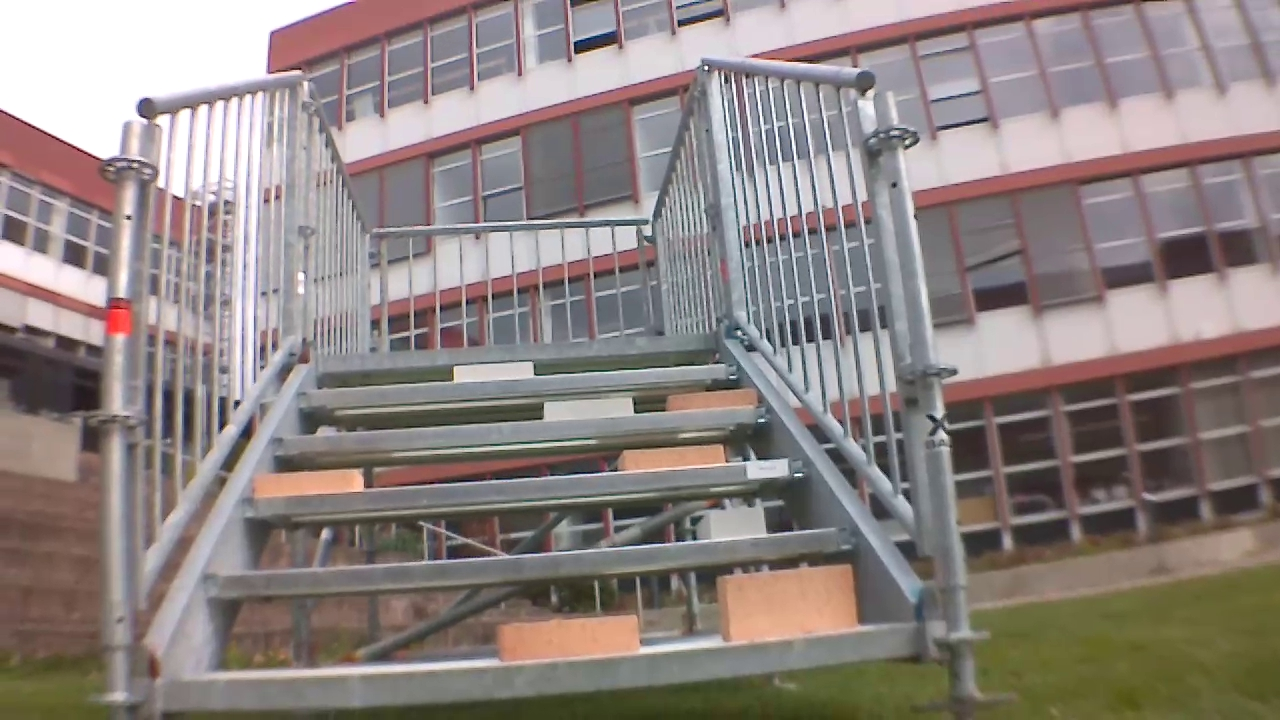brick: (715, 564, 855, 642), (498, 615, 639, 663), (239, 466, 362, 500), (618, 445, 728, 476), (702, 503, 769, 539), (659, 390, 762, 413), (541, 400, 636, 423), (447, 360, 533, 385)
edge: (169, 631, 932, 720), (203, 524, 860, 602), (239, 458, 809, 520), (276, 407, 793, 451), (297, 361, 741, 407), (309, 331, 713, 377)
stairs: (114, 51, 962, 698)
steps: (122, 346, 993, 691)
